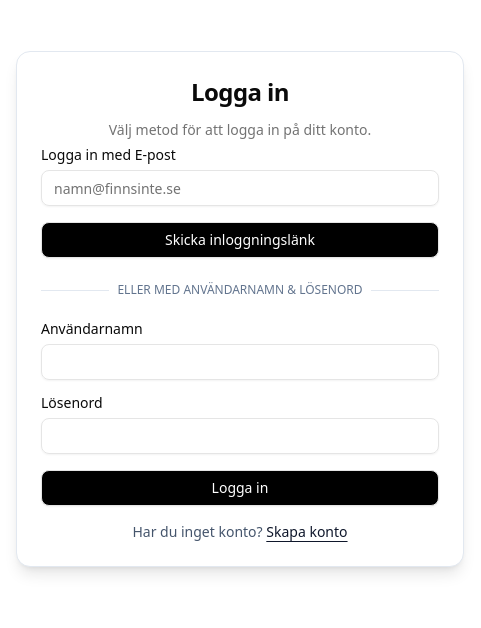
Page: Login › borde visa error meddelande om login misslyckas
Step 1. Type "behövervaraminsttre" into the field labelled "Användarnamn" → (240, 362), box [41,344,439,380]
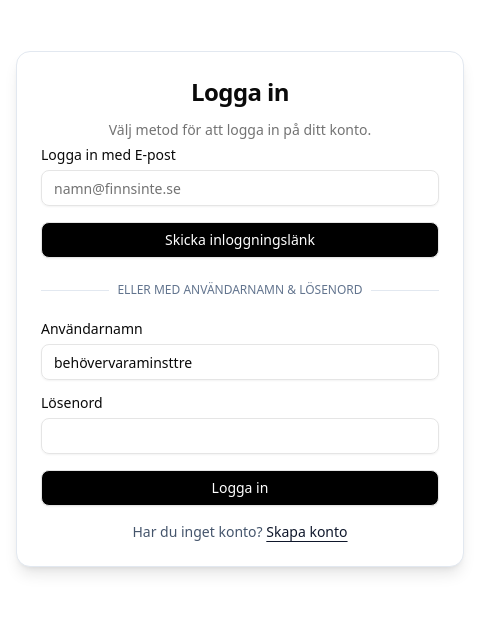
Step 2. Type "behövervaraminståtta" into the password field labelled "Lösenord" → (240, 436), box [41,418,439,454]
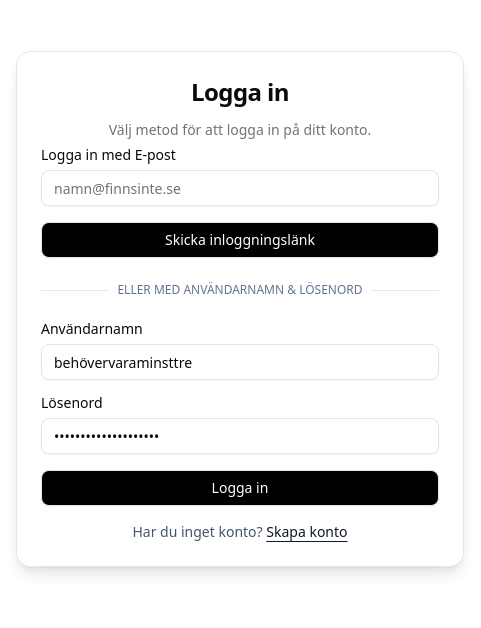
Step 3. Click the button "Logga in" → (240, 488), box [41,470,439,506]
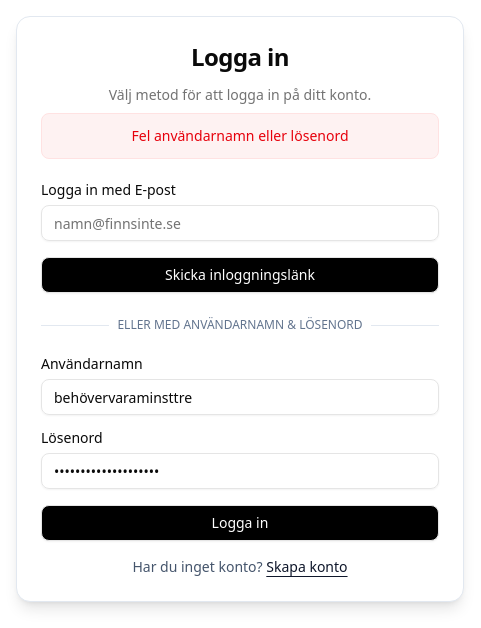
Check: the text "Fel användarnamn eller lösenord" is shown, box [41,113,439,159]
